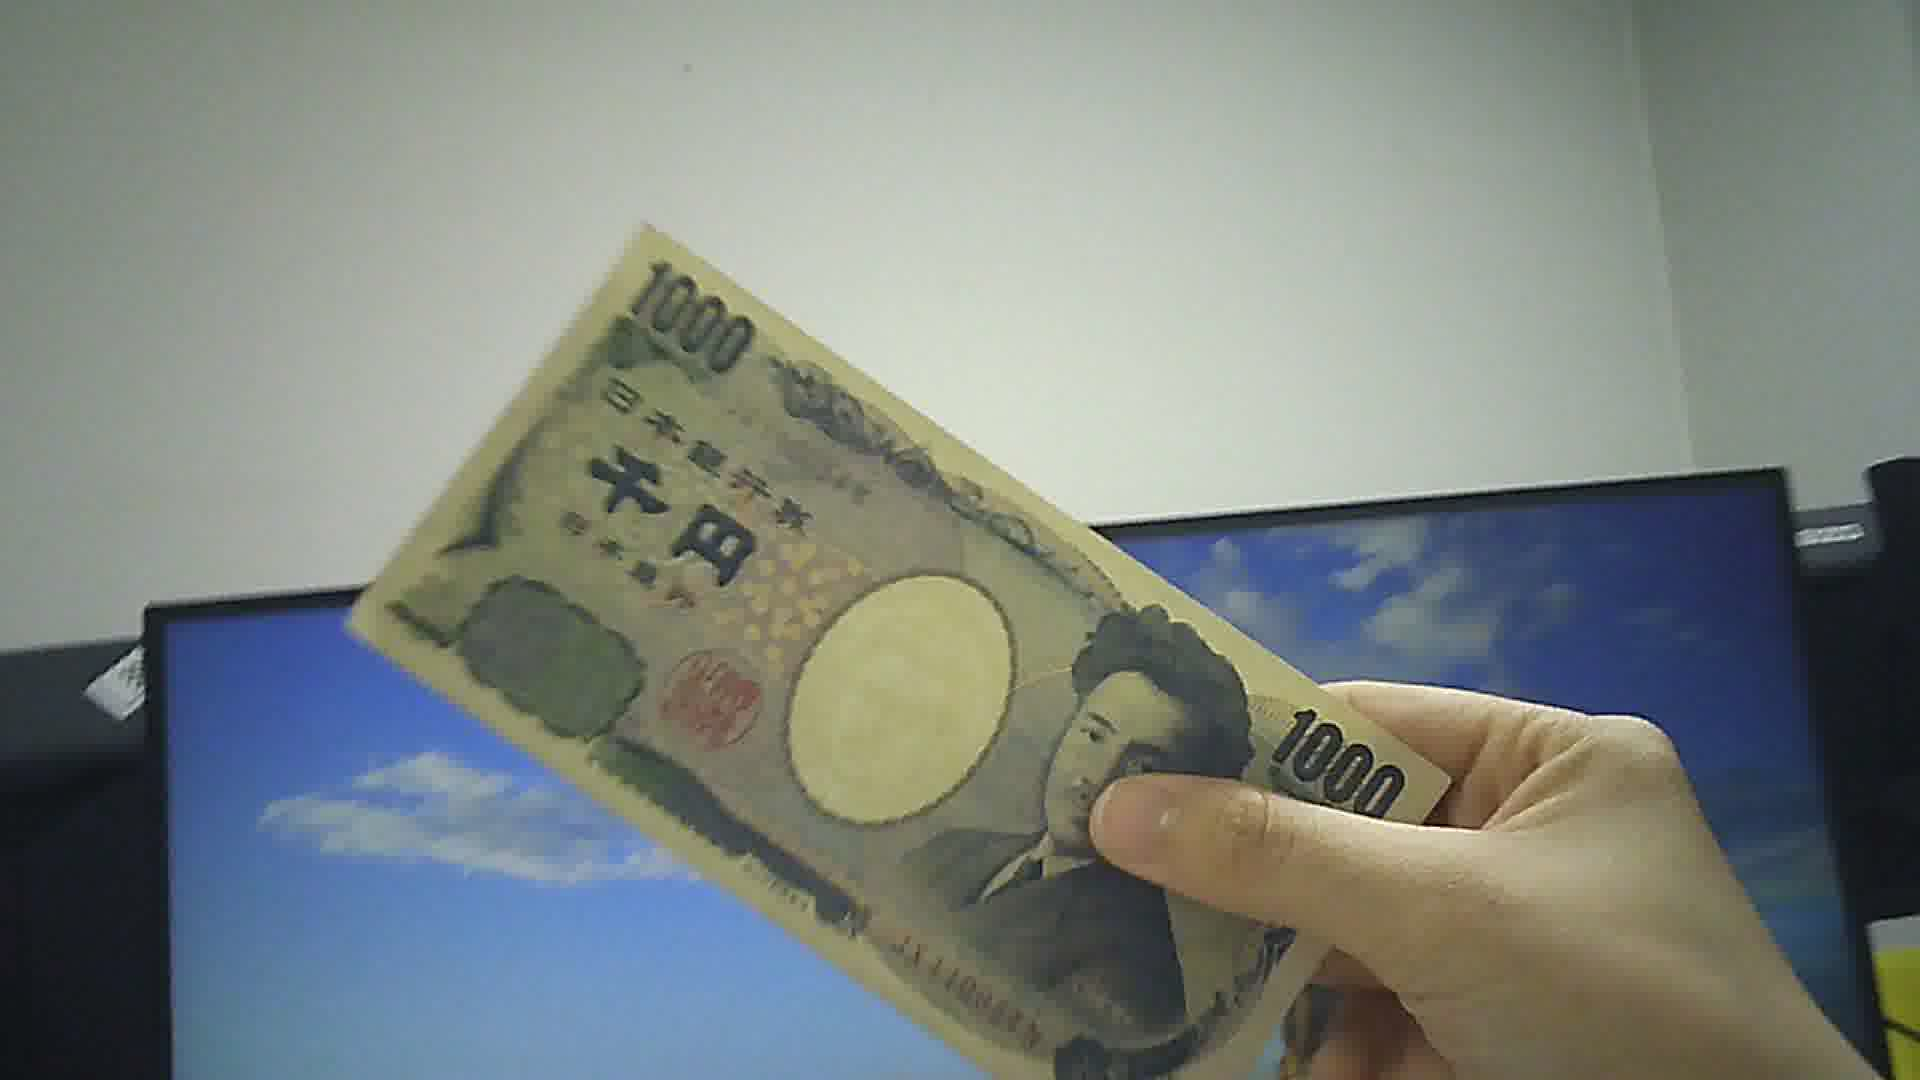1,000 Yen: (355, 208, 1433, 1062)
